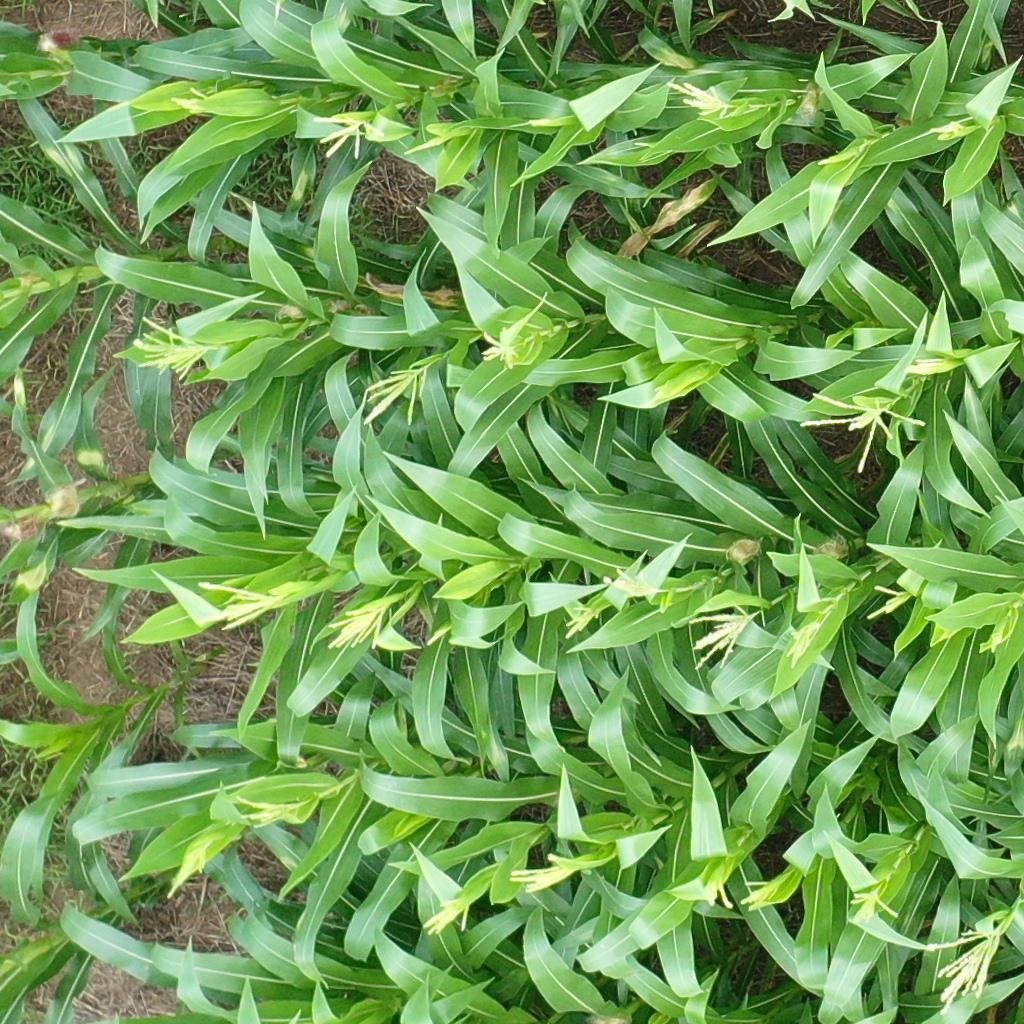Tassel: (791, 388, 926, 475), (925, 921, 1003, 1017), (192, 573, 291, 633), (129, 314, 210, 380), (358, 364, 436, 428), (686, 613, 758, 672), (322, 597, 387, 652), (667, 77, 739, 124), (501, 850, 580, 892), (705, 872, 777, 914), (228, 793, 313, 828), (311, 108, 368, 160), (167, 838, 210, 900), (599, 567, 673, 601), (474, 322, 525, 368), (784, 614, 822, 668), (850, 882, 896, 925), (867, 579, 916, 619), (425, 896, 469, 935), (169, 85, 212, 119), (565, 605, 599, 640), (925, 121, 973, 143), (907, 352, 949, 376), (641, 380, 674, 409), (808, 148, 862, 165), (986, 622, 1012, 654)
